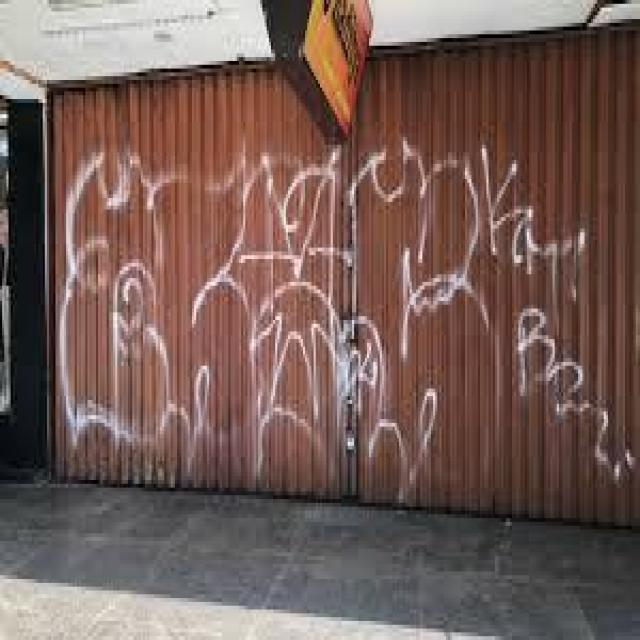nonspitting: (62, 148, 636, 502)
